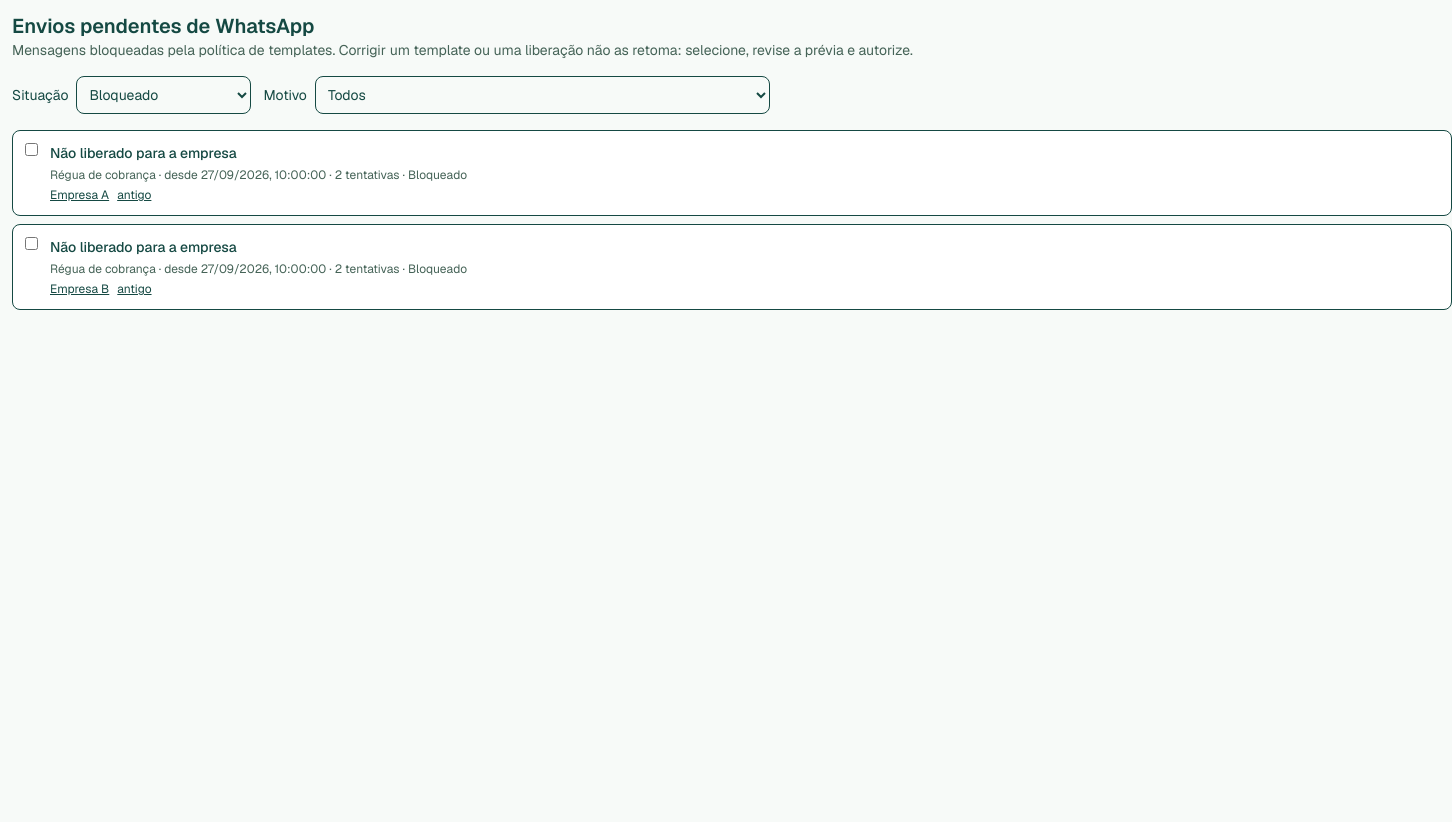
Test case: TemplatePendingSends (admin) › preselects nothing and previews only the chosen holds with an explicit replacement
Expected: the button "Revisar retomada" is not shown
Click the checkbox named "Selecionar pendência de Empresa A (Não liberado para a empre" at (32, 150), box [25, 143, 38, 156]
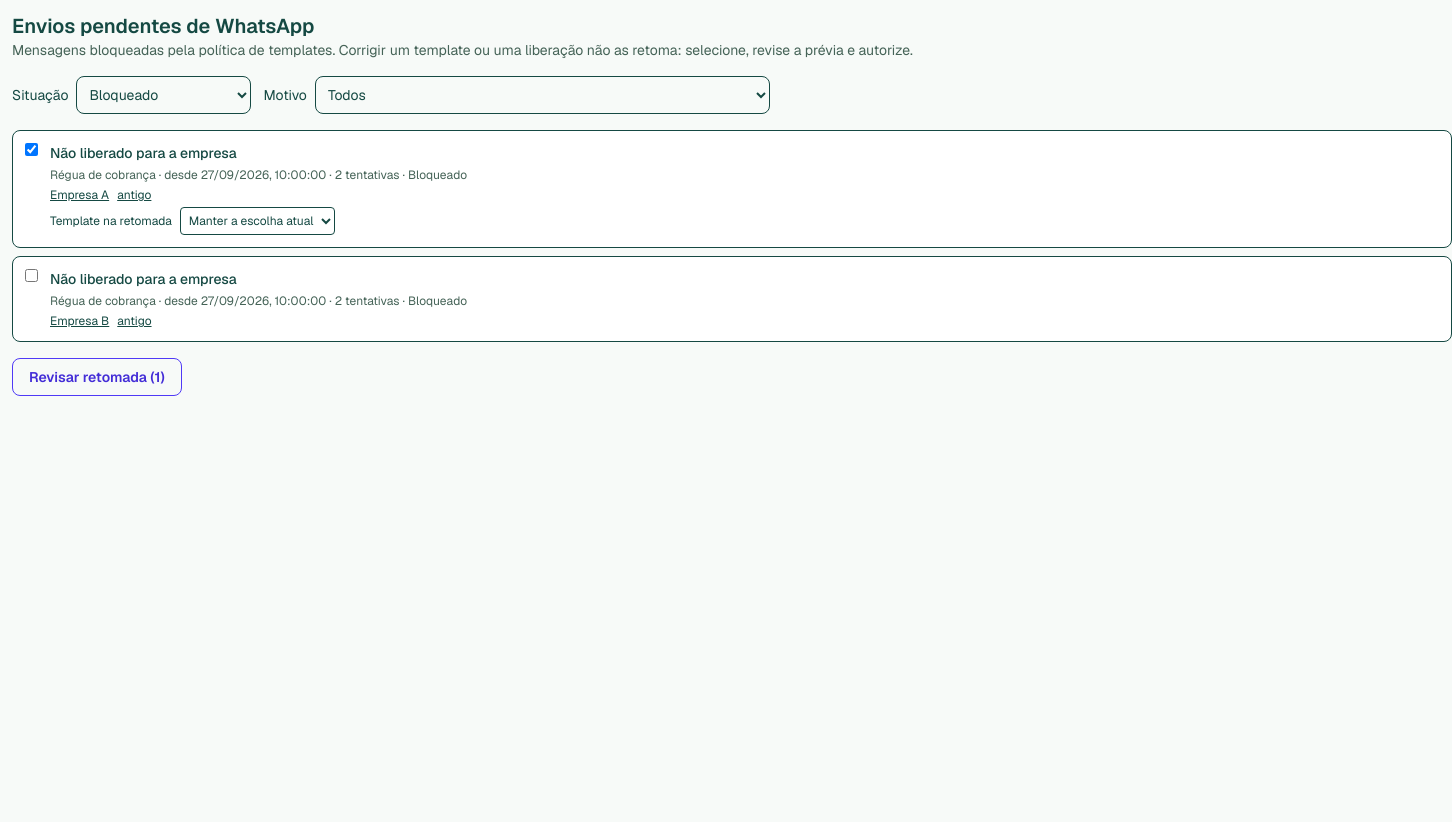
Select "novo" in the dropdown labelled "Template na retomada" at (257, 221), box [180, 207, 335, 235]
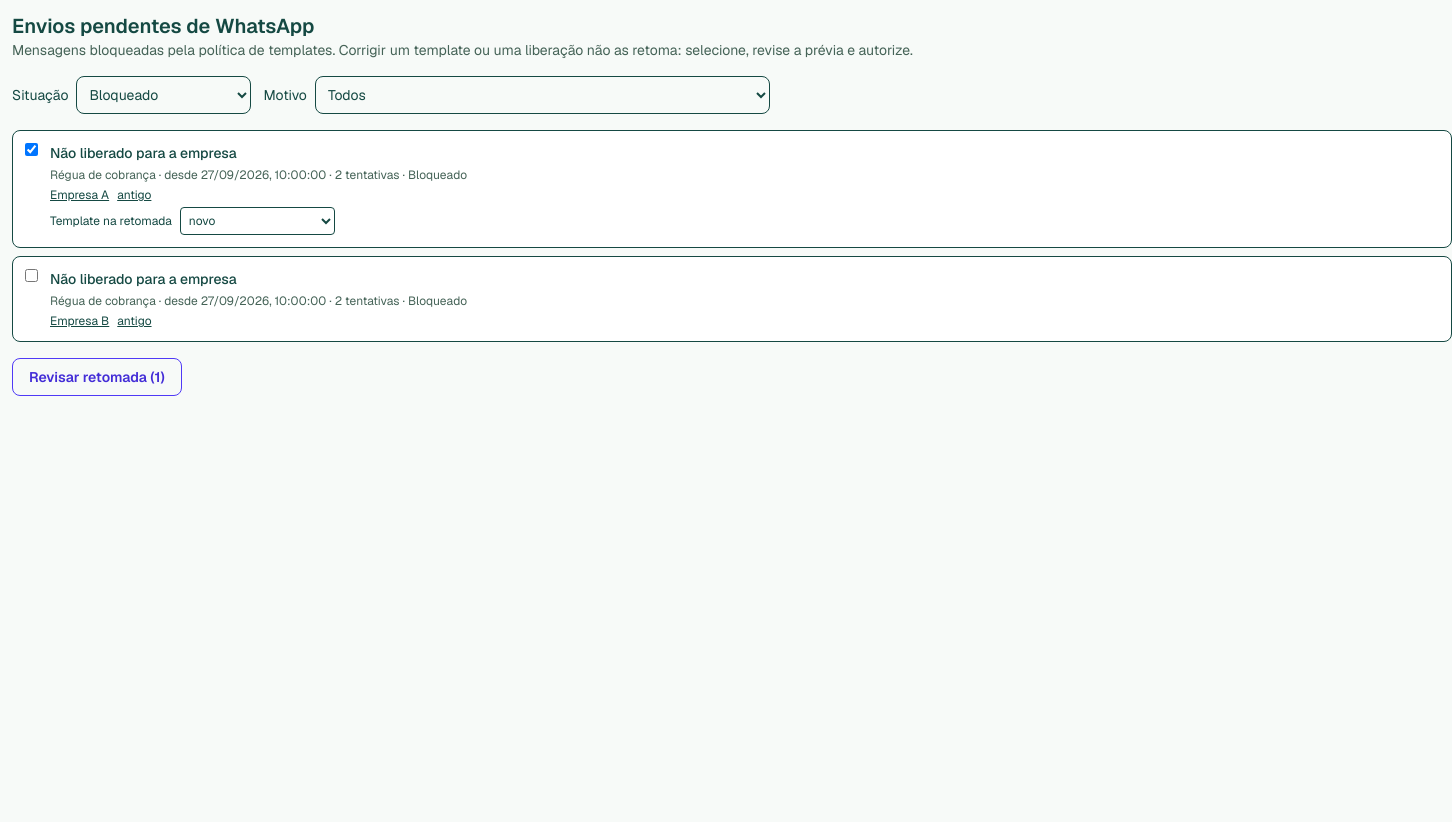
Click the button "Revisar retomada (1)" at (97, 377), box [12, 358, 182, 396]
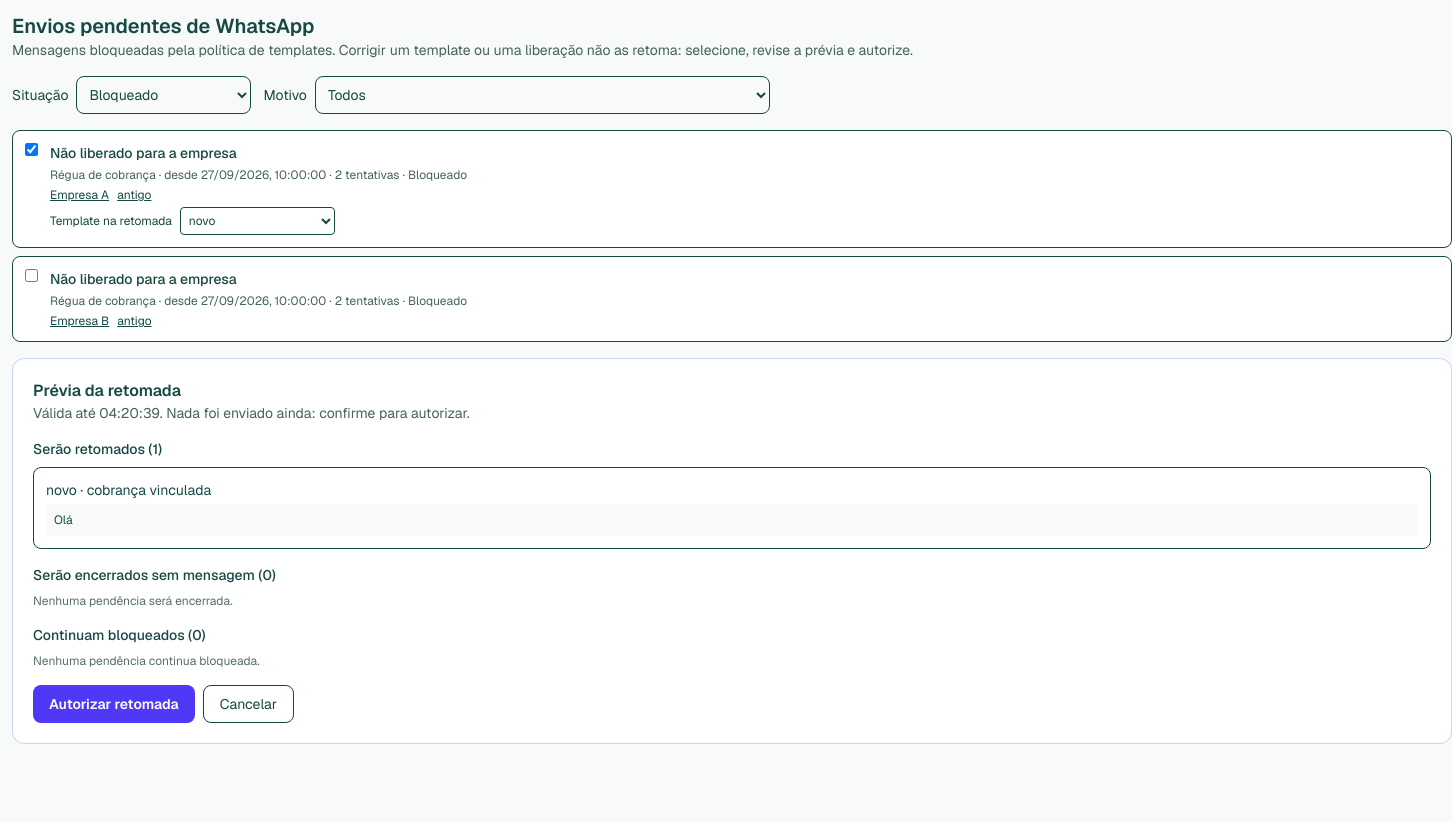
Expected: the element "Prévia da retomada" is shown, [12, 358, 1451, 744]
